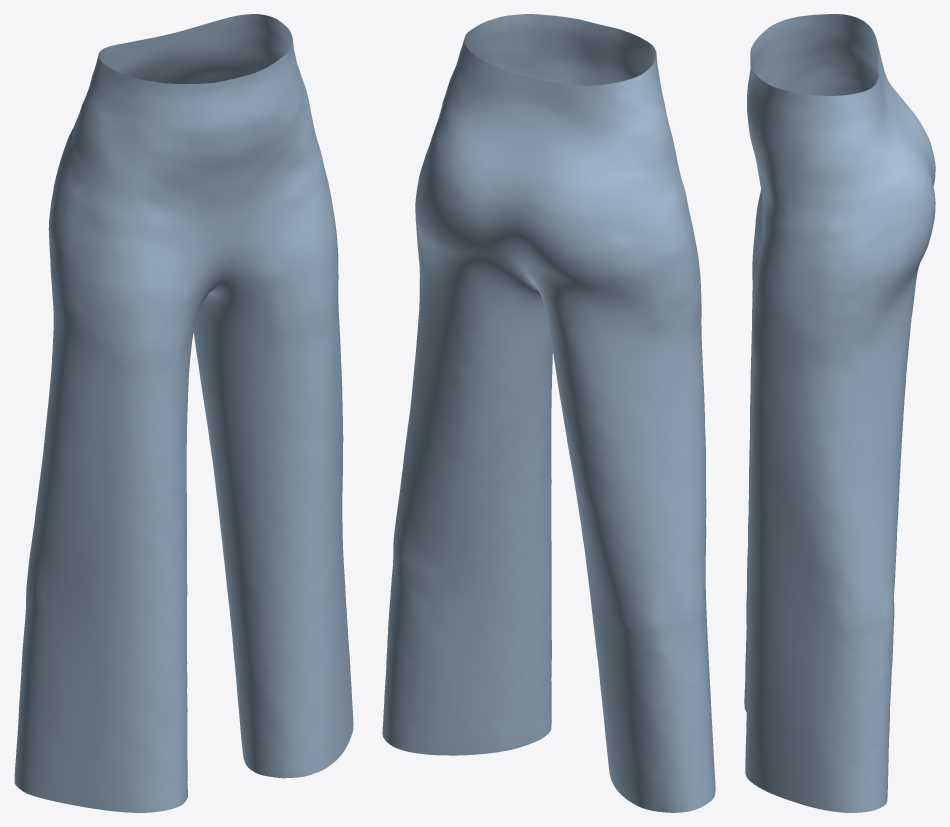
The model's file is trousers_S.glb.
3 renders of one model, left to right at view 1: azimuth 30°, elevation 25°; view 2: azimuth 150°, elevation 25°; view 3: azimuth 270°, elevation 25°, orthographic. The views are drawn at different scales.
Parts seen in each view (by area): view 1: geometry_0; view 2: geometry_0; view 3: geometry_0.
Boxes of the visible parts, x1=… form: geometry_0: x1=14, y1=14, x2=353, y2=812; geometry_0: x1=382, y1=14, x2=715, y2=812; geometry_0: x1=744, y1=14, x2=935, y2=812.
Size of the model in its own units: 0.4721 by 0.9998 by 0.2517.
